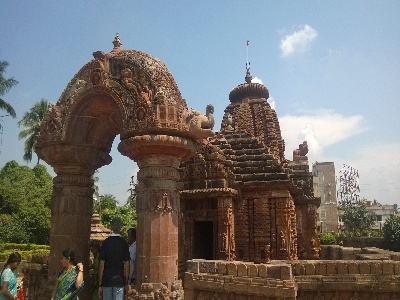torana: (24, 30, 205, 285)
